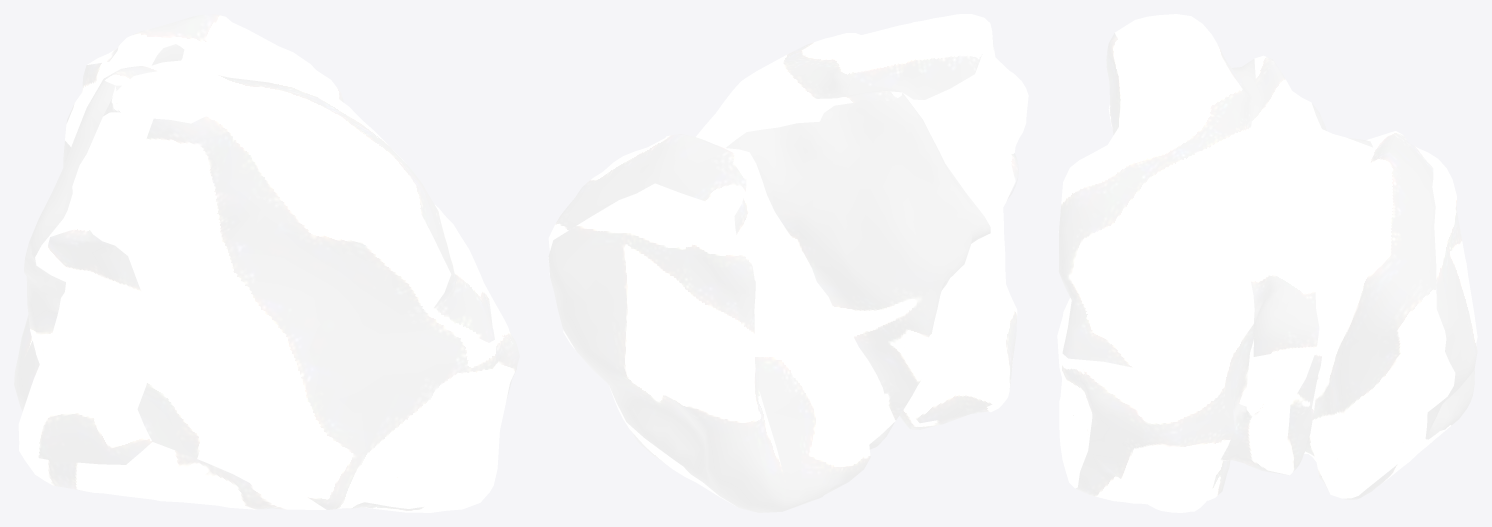
The model's file is rock1.glb.
3 views of the same model, side by side, from view 1: azimuth 30°, elevation 25°; view 2: azimuth 150°, elevation 25°; view 3: azimuth 270°, elevation 25° (orthographic). The views are drawn at different scales.
Visible parts, largest first — view 1: Rock1; view 2: Rock1; view 3: Rock1.
Part boxes in pixels (x1,y1,x2,y2): Rock1: (14,14,519,512); Rock1: (548,14,1028,512); Rock1: (1057,14,1477,512).
Size of the model in its own units: 4.25 by 4.25 by 4.22.
Materials: 1 (1 with a texture image).
